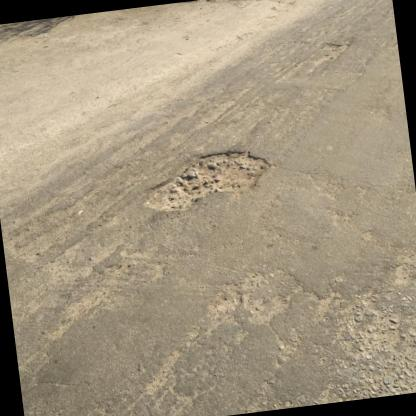pothole: (136, 143, 276, 214), (312, 36, 354, 66)
